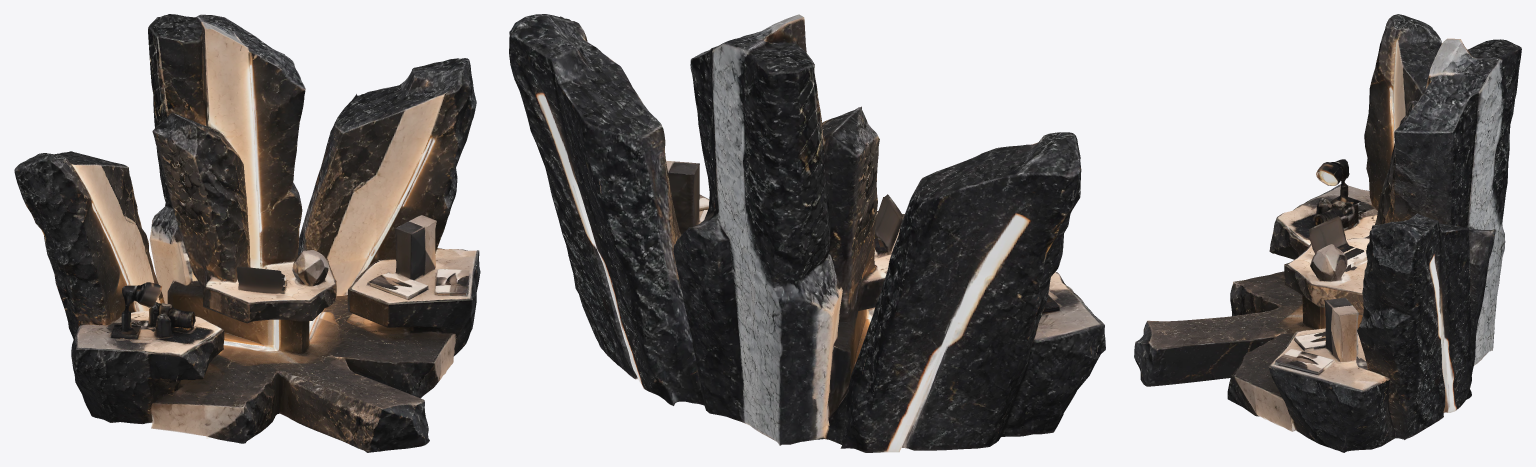
File: servizi.glb
3 renders of one model, left to right at view 1: azimuth 30°, elevation 25°; view 2: azimuth 150°, elevation 25°; view 3: azimuth 270°, elevation 25°, orthographic. The views are drawn at different scales.
Visible parts, largest first — view 1: Mesh0; view 2: Mesh0; view 3: Mesh0.
Part boxes in pixels (x1,y1,x2,y2): Mesh0: [14, 14, 480, 452]; Mesh0: [509, 14, 1105, 452]; Mesh0: [1134, 14, 1521, 452].
Size of the model in its own units: 1.89 by 1.28 by 1.43.
1 material, 1 textured.
